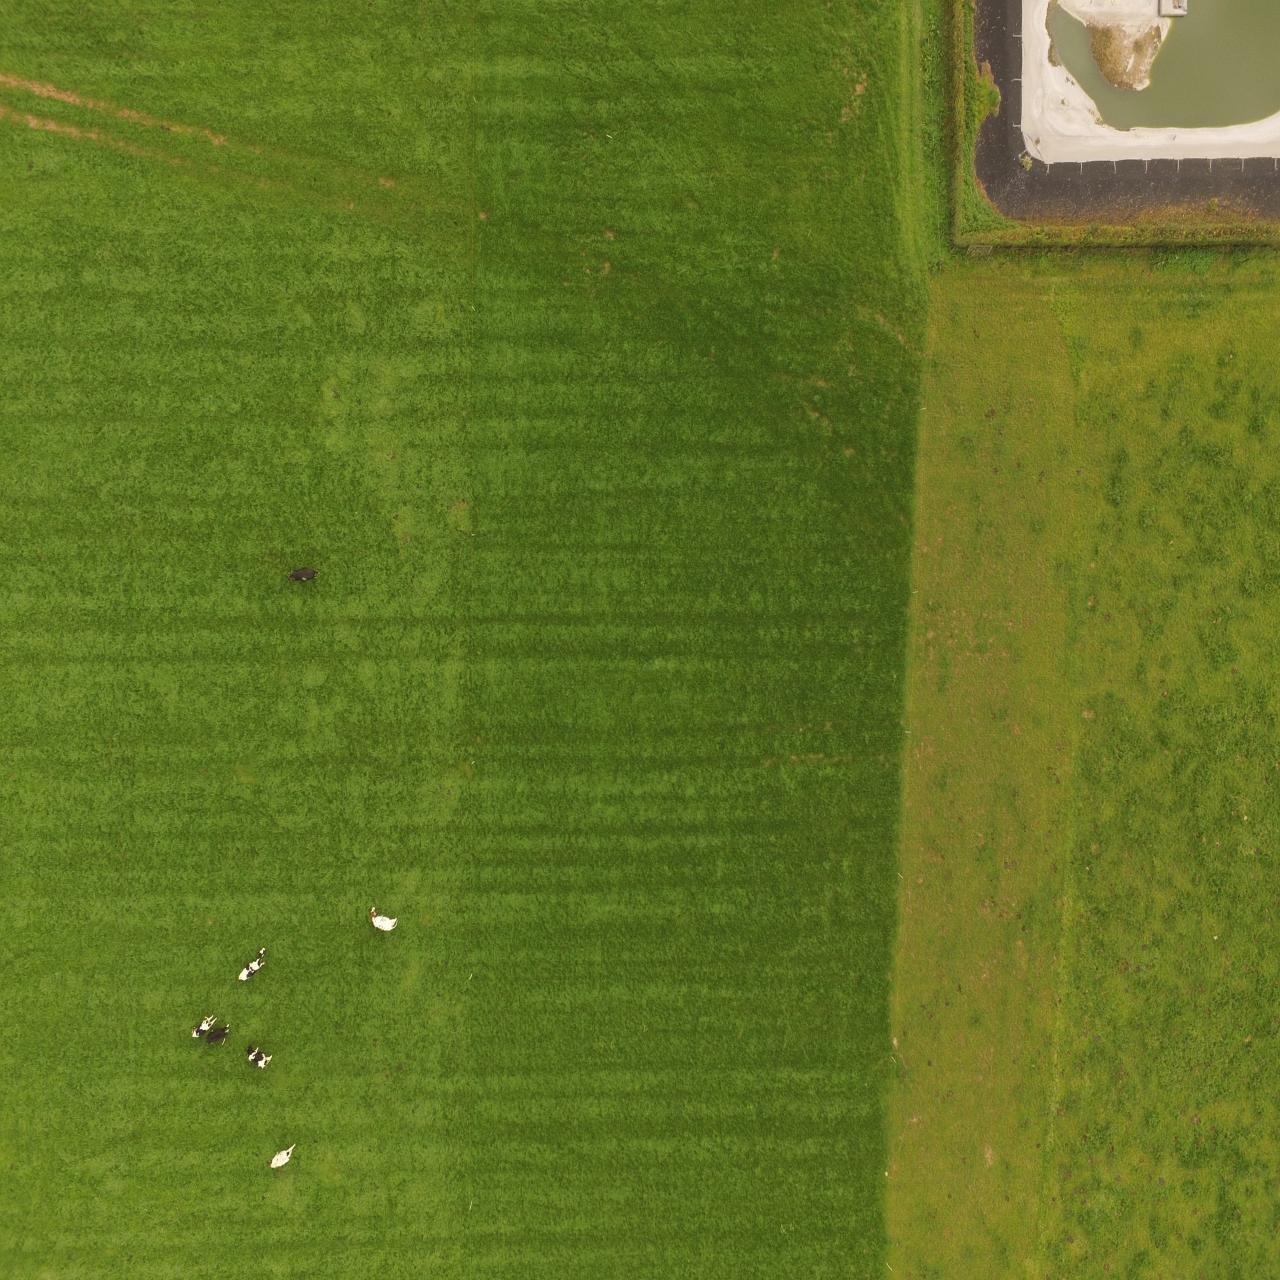cow: (233, 945, 264, 982), (282, 563, 325, 588), (266, 1139, 297, 1170), (369, 905, 400, 933), (189, 1012, 219, 1040), (246, 1044, 275, 1069), (206, 1024, 231, 1049)
